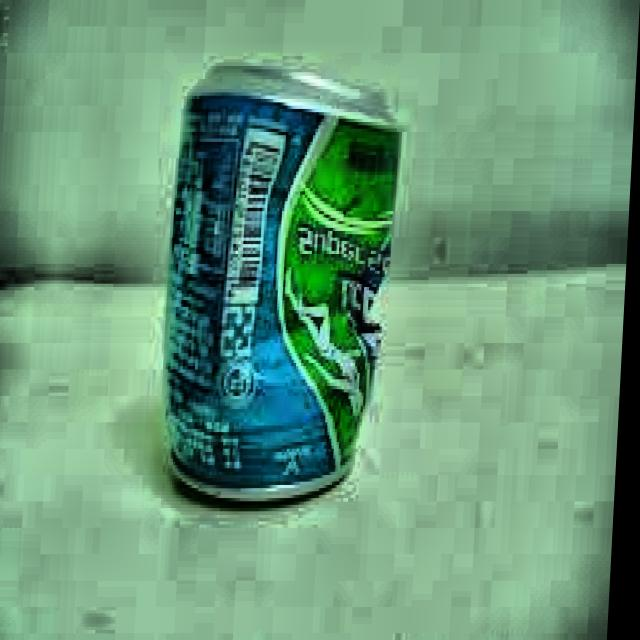can: (146, 45, 416, 525)
